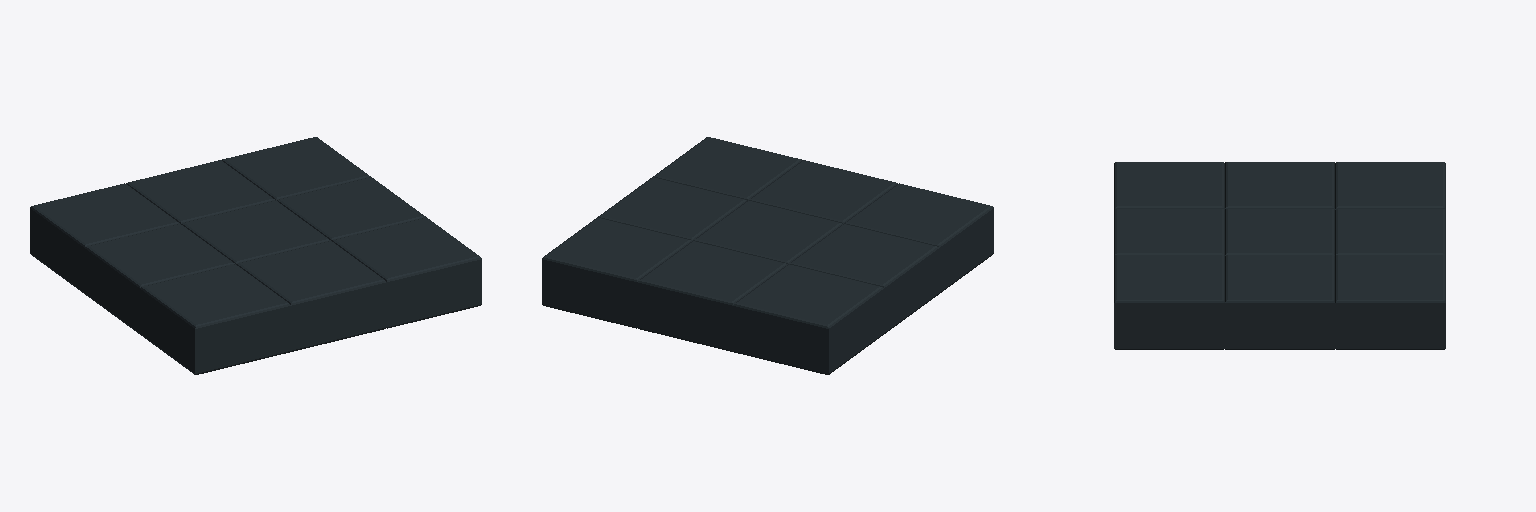
The model's file is tileBrickB_large.obj.
3 renders of one model, left to right at view 1: azimuth 30°, elevation 25°; view 2: azimuth 150°, elevation 25°; view 3: azimuth 270°, elevation 25°, orthographic.
Visible parts, largest first — view 1: tileBrickB_large_Cube.3228; view 2: tileBrickB_large_Cube.3228; view 3: tileBrickB_large_Cube.3228.
Part boxes in pixels (left/top/right/bottom): tileBrickB_large_Cube.3228: left=30, top=137, right=481, bottom=374; tileBrickB_large_Cube.3228: left=542, top=137, right=993, bottom=374; tileBrickB_large_Cube.3228: left=1114, top=162, right=1445, bottom=349.
Size of the model in its own units: 6 by 1 by 6.